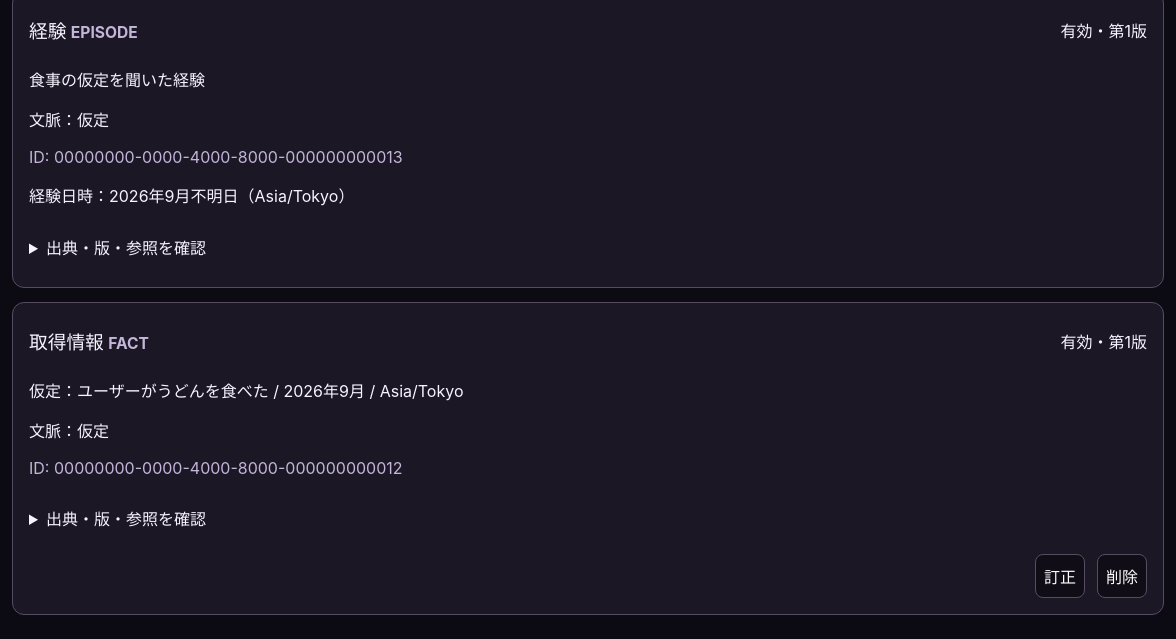
Test: 削除確認のキャンセルでfocusを戻し、削除後は古い本文を表示しない
(page scrolled)
What coordinates should you click on to do the following:
click the button "削除"
I would click on:
 (1122, 576)
Its box is [1097,554,1147,598].
(page scrolled)
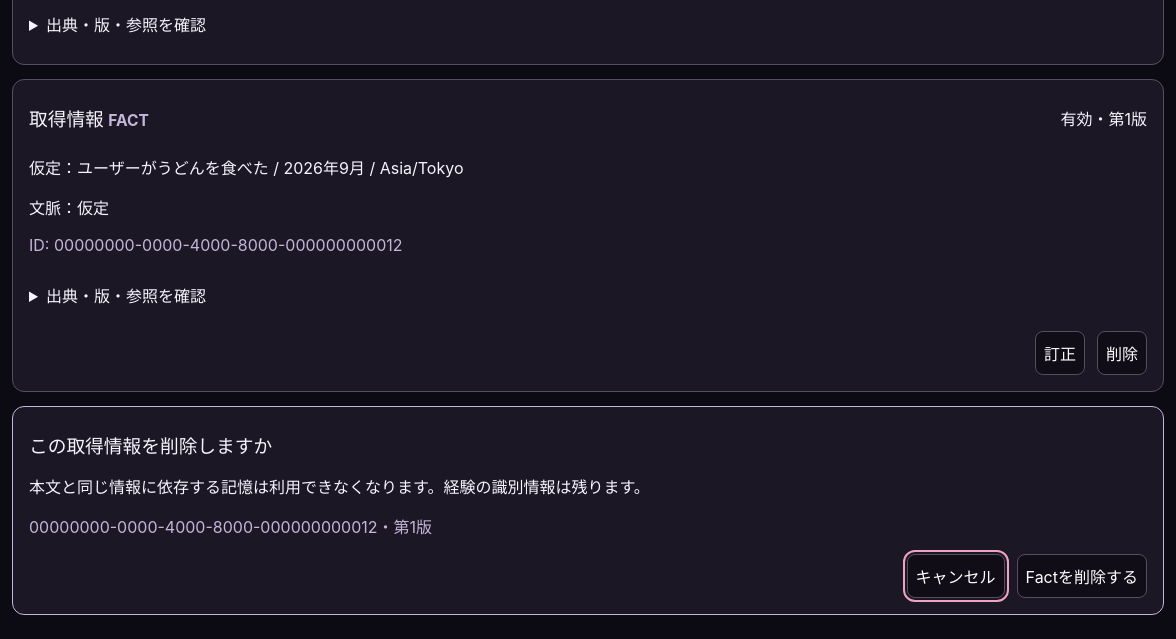
What coordinates should you click on to do the following:
click the button "キャンセル"
I would click on:
 (956, 576)
Its box is [907,554,1005,598].
(page scrolled)
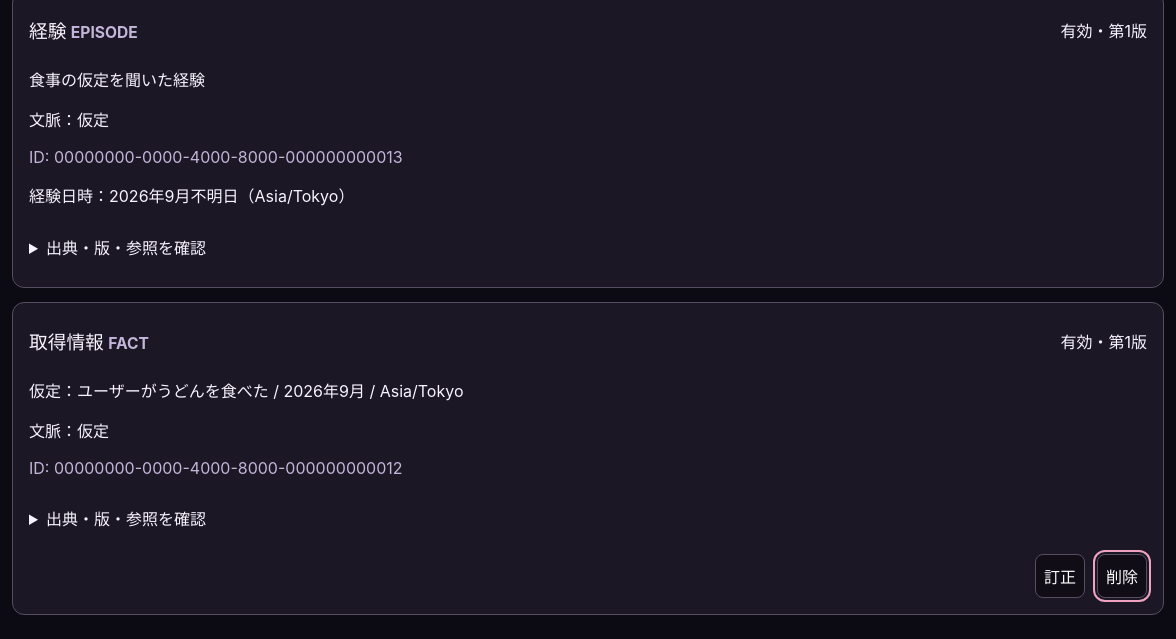
What coordinates should you click on to do the following:
click the button "削除"
I would click on:
 (1122, 576)
Its box is [1097,554,1147,598].
(page scrolled)
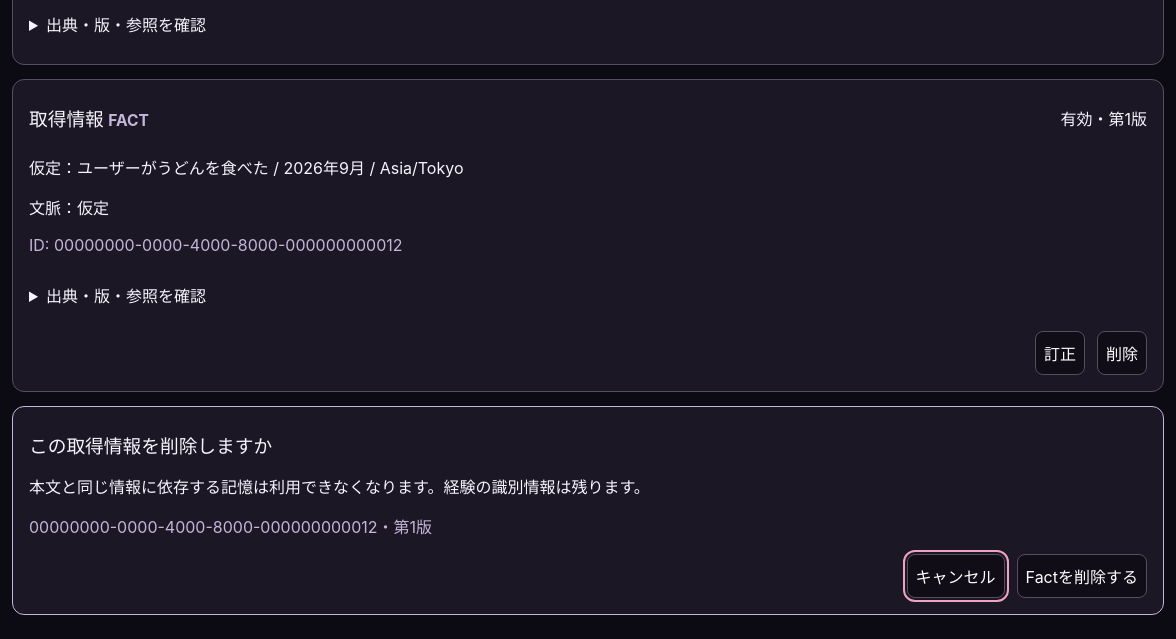
What coordinates should you click on to do the following:
click the button "Factを削除する"
I would click on:
 (1082, 576)
Its box is [1017,554,1147,598].
(page scrolled)
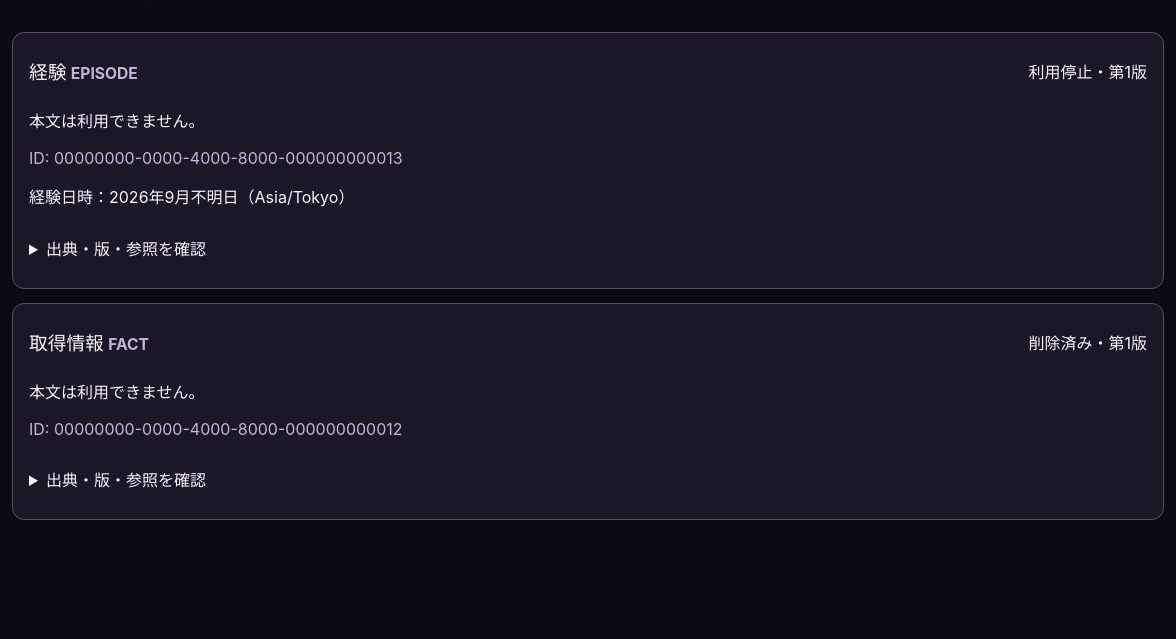
Expected: the text "ユーザーがうどん" is gone
Expected: the text "削除済み・第1版" is shown, [1028,330,1147,354]
